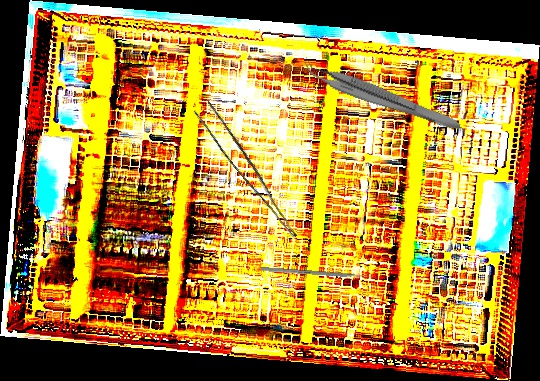Pusher: (261, 266, 377, 280)
Tissue Forceps: (189, 99, 312, 239), (298, 57, 466, 133)
